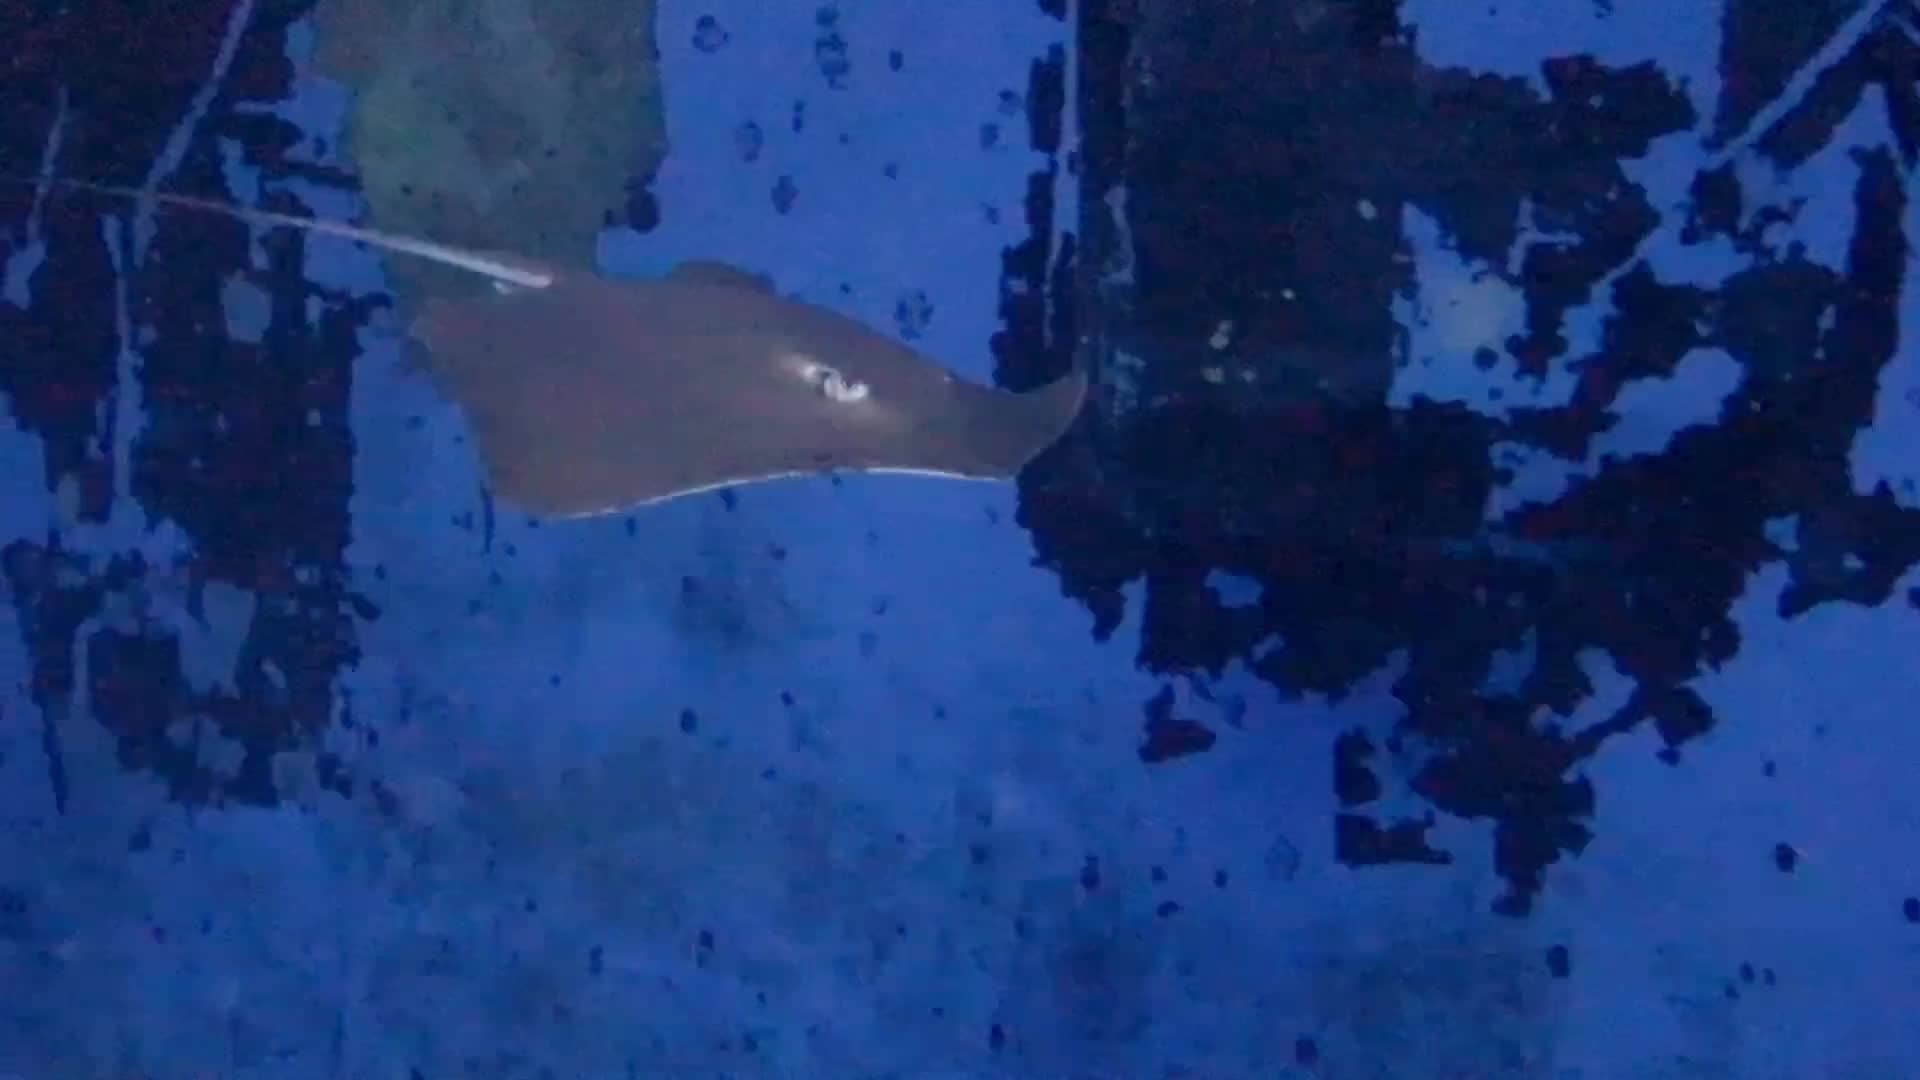Himantura gerrardi: (34, 109, 1124, 563)
